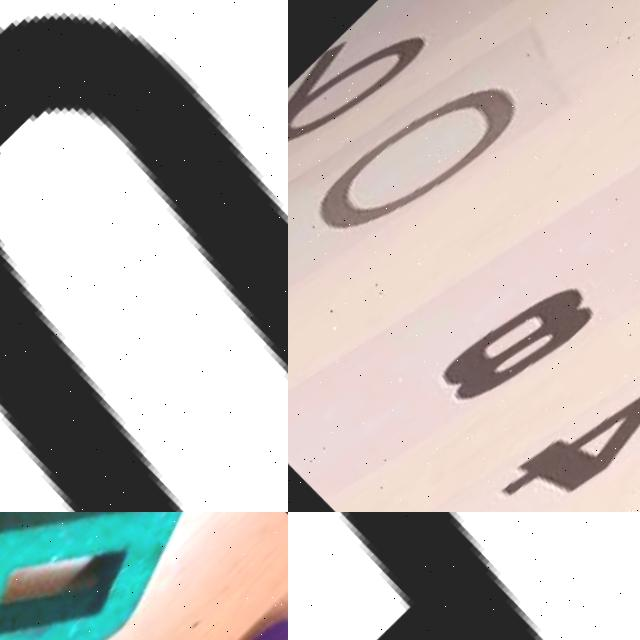0: (288, 6, 588, 308)
4: (415, 309, 640, 512)
8: (377, 219, 640, 466)
9: (288, 0, 487, 222)
D: (0, 512, 244, 640)
G: (142, 572, 288, 640)
R: (288, 512, 640, 640)
U: (0, 0, 288, 512)
